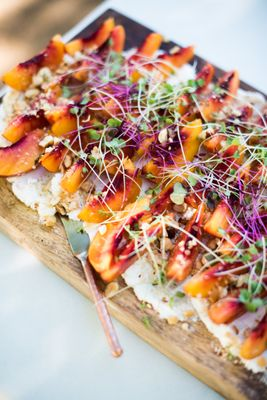pizza: (110, 25, 126, 53)
sandwich: (0, 12, 266, 379)
